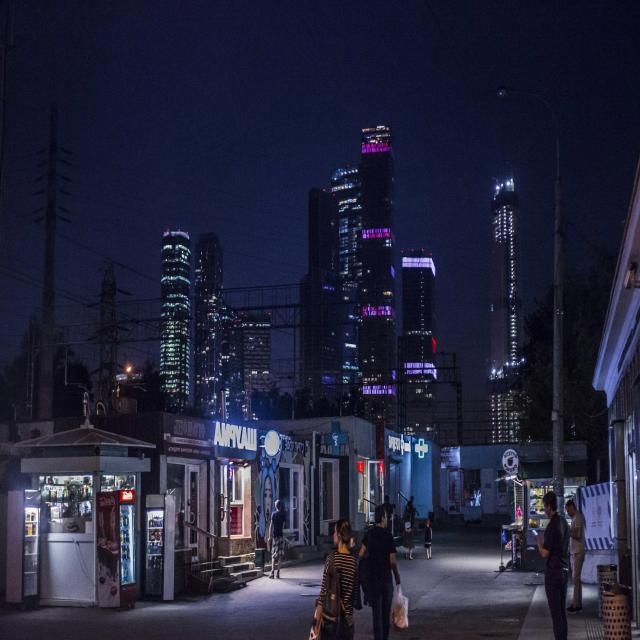adult: (310, 517, 360, 640), (533, 487, 570, 640), (357, 506, 399, 640), (564, 491, 588, 621), (267, 496, 287, 582)
